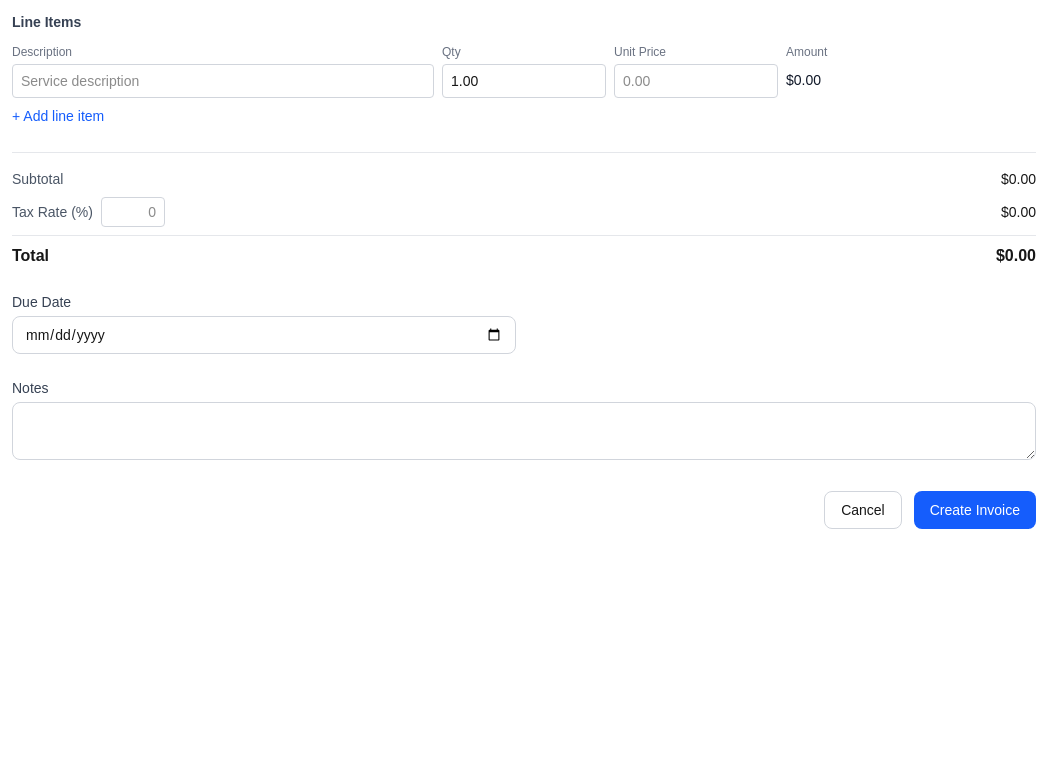
Test: InvoiceForm › user interactions › adds a new line item when clicking Add line item
The width and height of the screenshot is (1048, 780).
Click the button "+ Add line item": (58, 116) [12, 106, 104, 126]
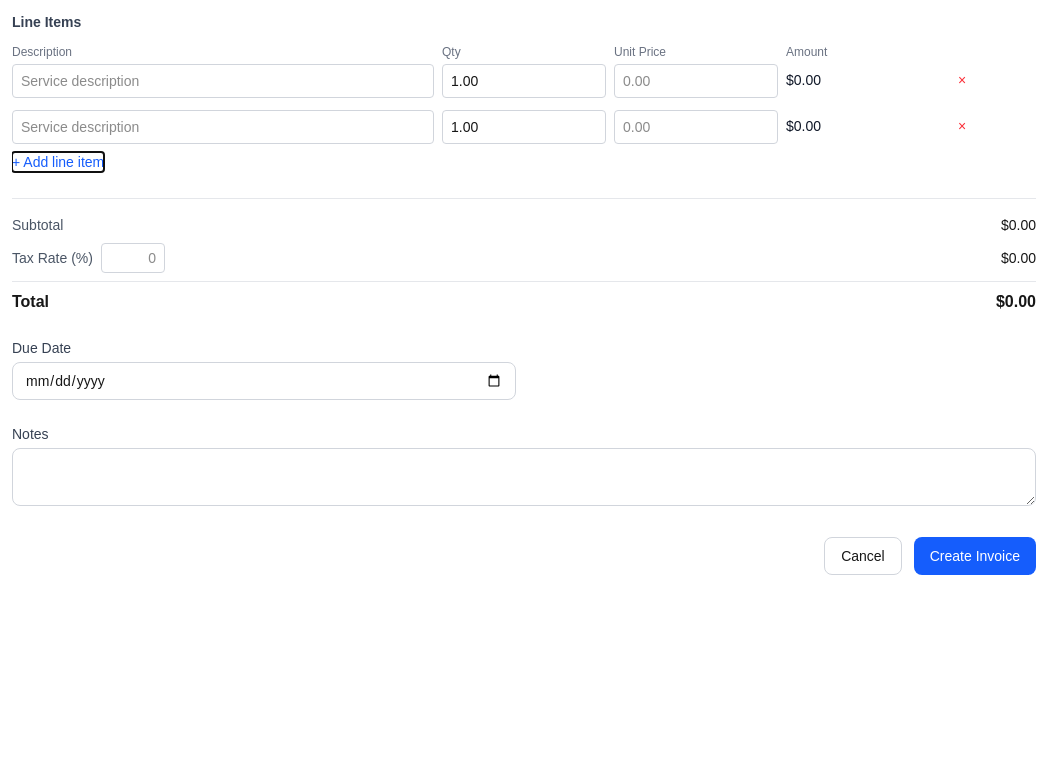
Result: the number of fields with placeholder "Service description" is 2 at [12, 64, 434, 98]; [12, 110, 434, 144]
